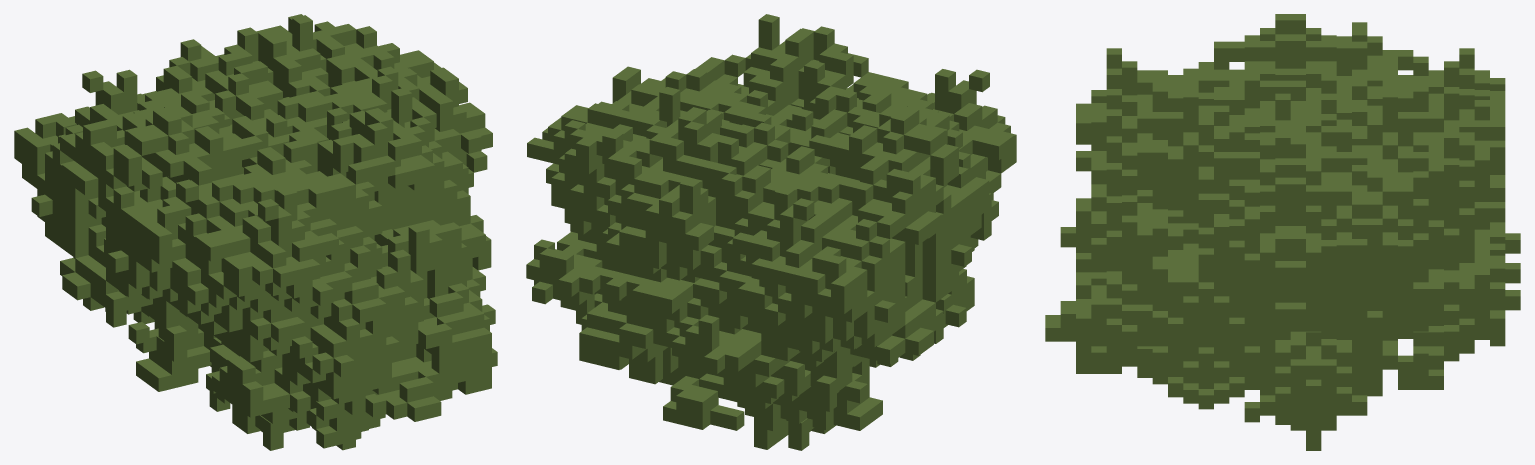
The model's file is good-15.obj.
The picture shows the model from 3 angles, left to right: view 1: azimuth 30°, elevation 25°; view 2: azimuth 150°, elevation 25°; view 3: azimuth 270°, elevation 25°; orthographic projection.
Size of the model in its own units: 2.9 by 2.5 by 3.1.
Materials: 1 (1 with a texture image).
